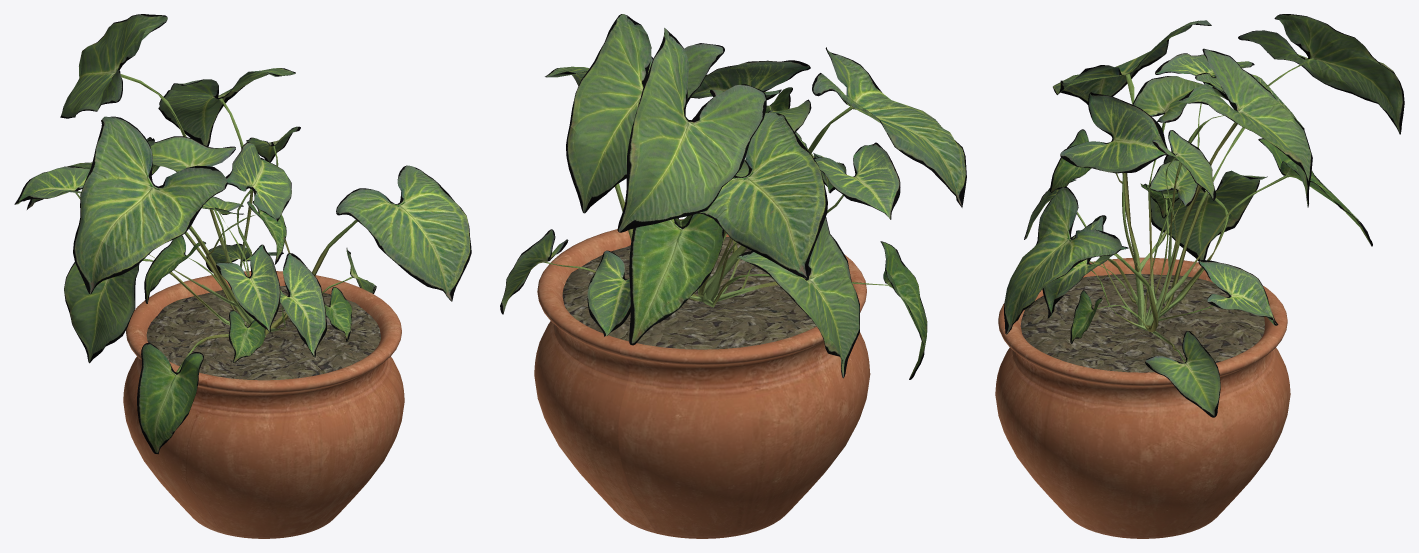
The model's file is PottedPlantArrowhead.obj.
3 views of the same model, side by side, from view 1: azimuth 30°, elevation 25°; view 2: azimuth 150°, elevation 25°; view 3: azimuth 270°, elevation 25° (orthographic). The views are drawn at different scales.
Visible parts, largest first — view 1: Leaves, Pot, Gravel; view 2: Leaves, Pot, Gravel; view 3: Leaves, Pot, Gravel.
Boxes of the visible parts, x1=… form: Leaves: x1=14, y1=14, x2=471, y2=454; Pot: x1=123, y1=271, x2=404, y2=538; Gravel: x1=146, y1=286, x2=380, y2=380; Leaves: x1=500, y1=14, x2=966, y2=379; Pot: x1=534, y1=219, x2=870, y2=538; Gravel: x1=562, y1=237, x2=816, y2=349; Leaves: x1=1004, y1=14, x2=1404, y2=417; Pot: x1=995, y1=257, x2=1290, y2=538; Gravel: x1=1020, y1=274, x2=1264, y2=372.
Bounding box in the file's own units: 0.7012 × 0.8412 × 0.6574.
3 materials, 3 textured.
